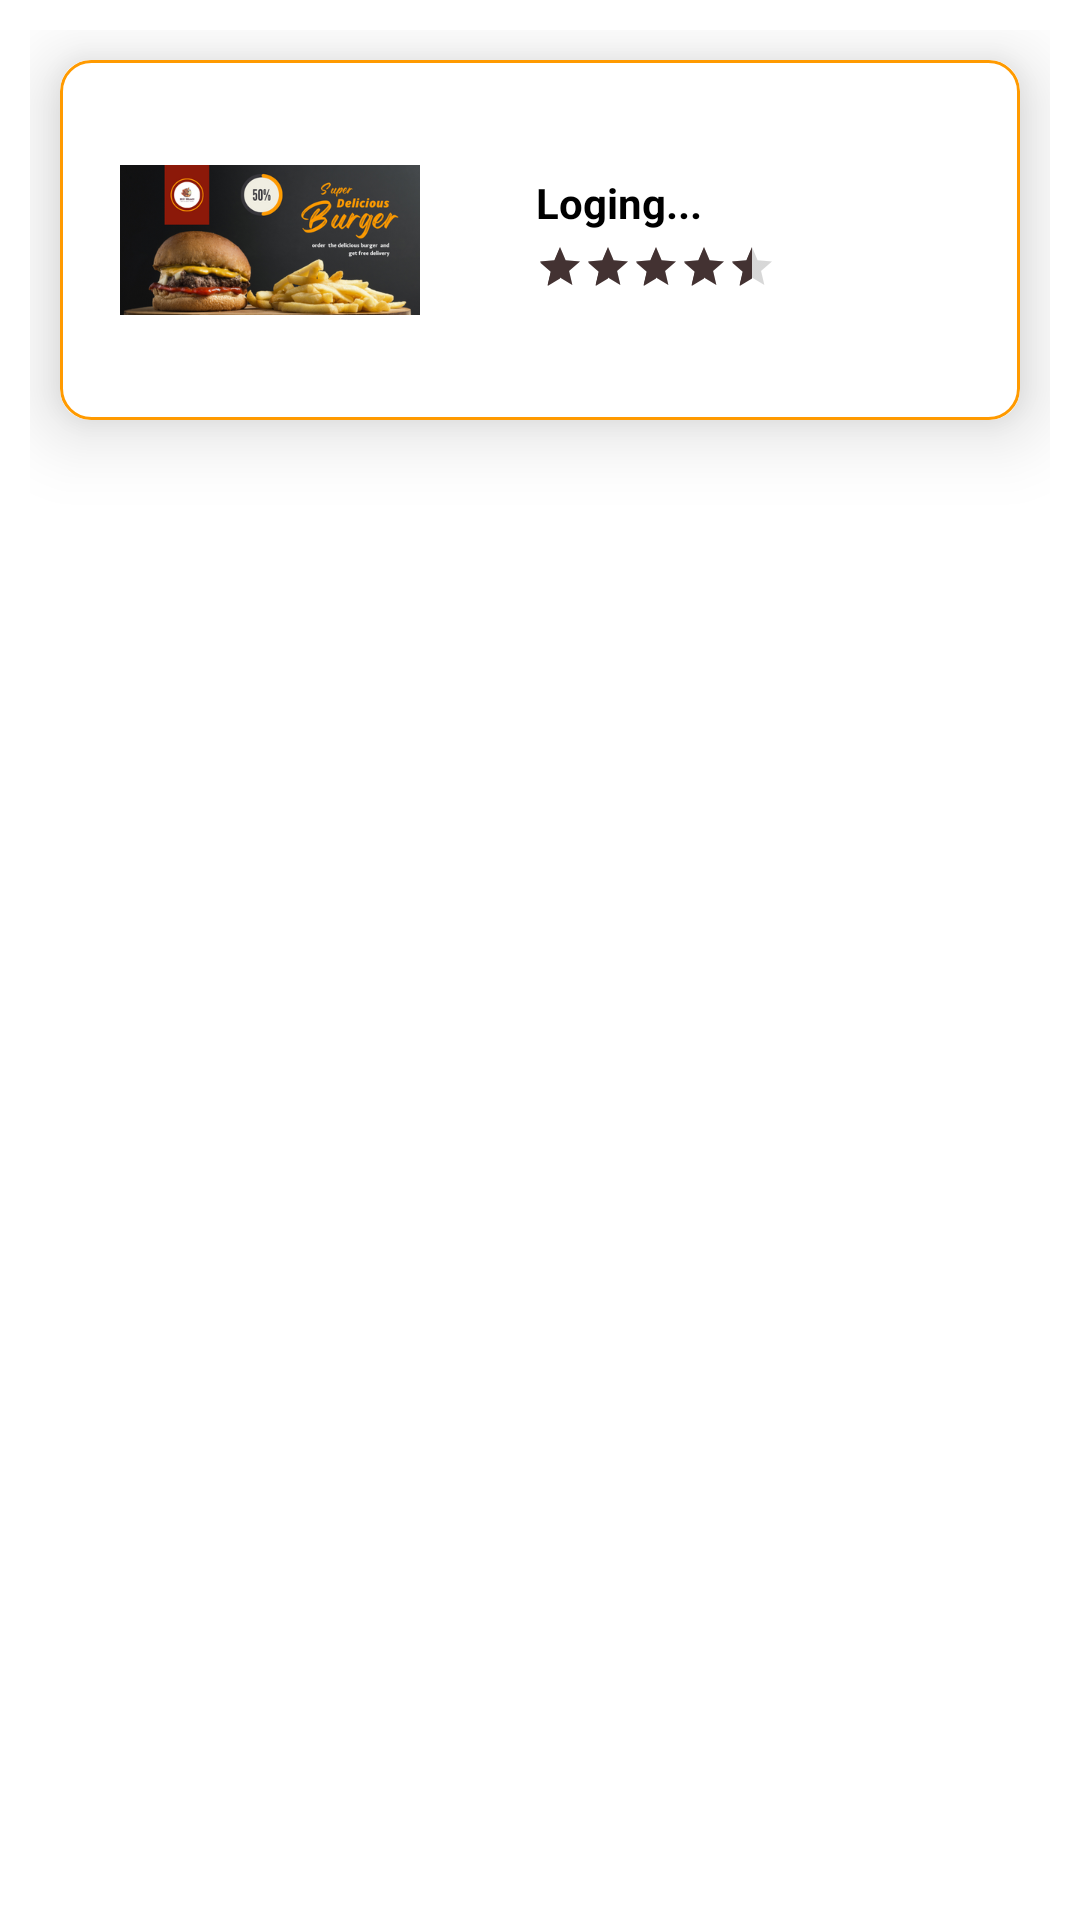

Icons on this 1080px×1920px Android screen, each with the point to tap as (x,y):
descount: (270,240)
